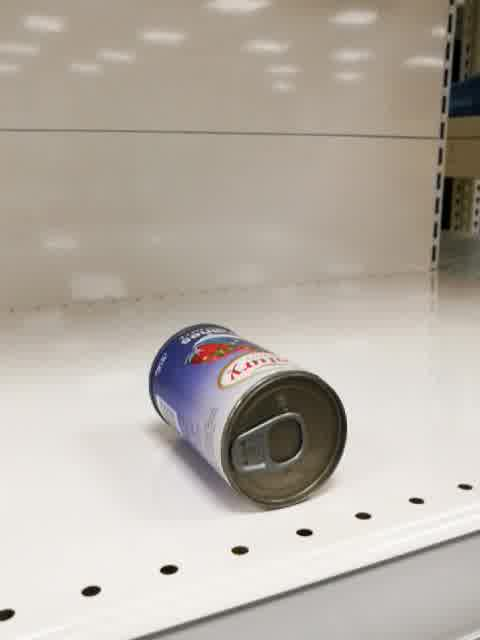sardine: (147, 323, 348, 511)
